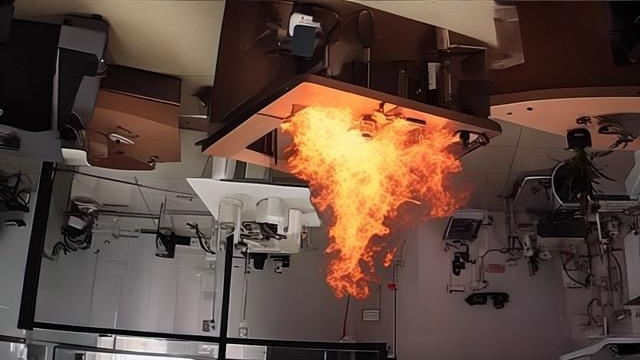fire: (273, 99, 467, 305)
